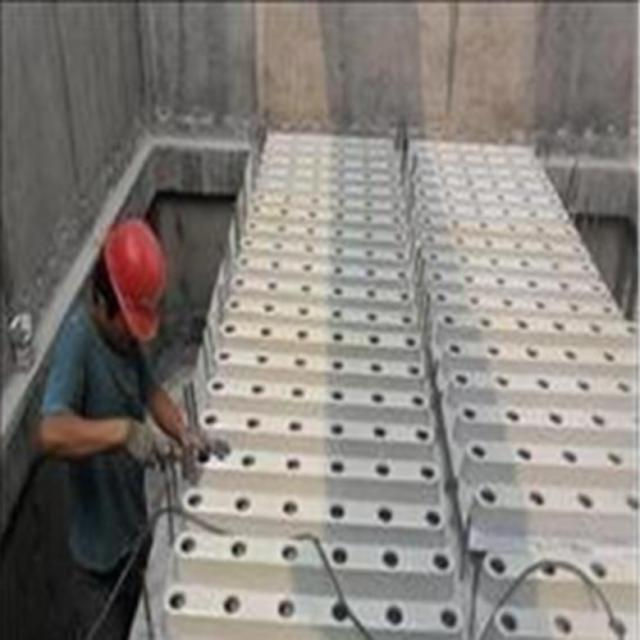head: (91, 222, 169, 346)
